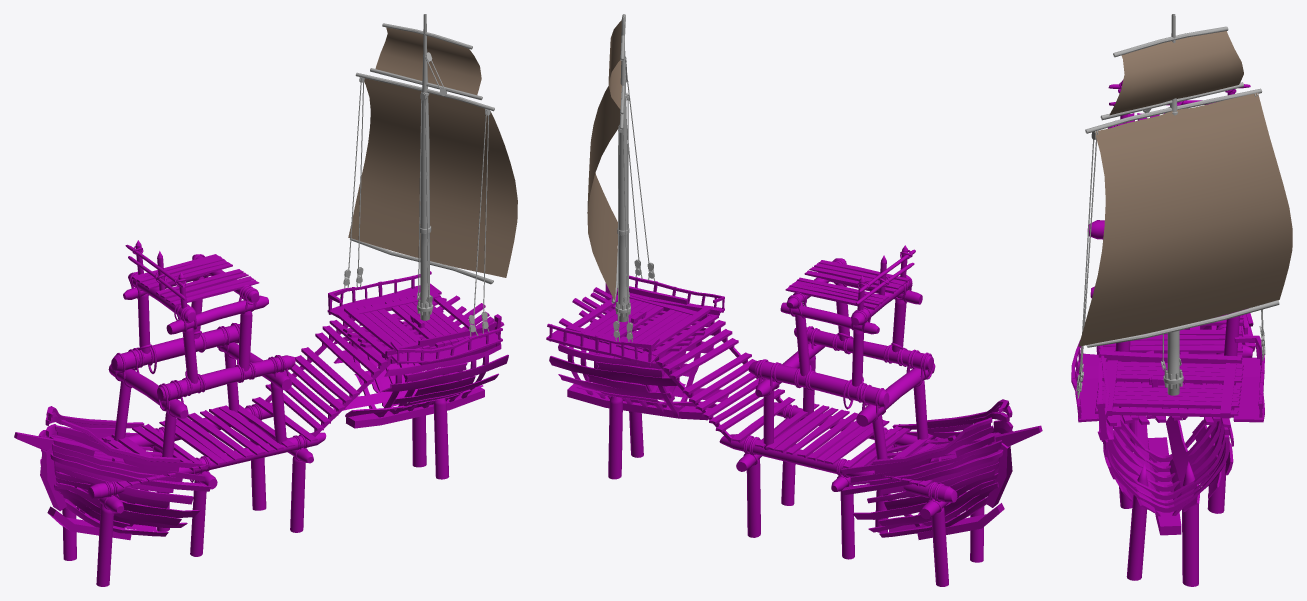
The model's file is Prefab_1.fbx.
The picture shows the model from 3 angles, left to right: view 1: azimuth 30°, elevation 25°; view 2: azimuth 150°, elevation 25°; view 3: azimuth 270°, elevation 25°; orthographic projection. The views are drawn at different scales.
Parts seen in each view (by area): view 1: Prefab_1_Tower_Wood, Prefab_1_Sail, Prefab_1_Shipwreck_Front, Prefab_1_Shipwreck_Back, Prefab_1_Mast, Prefab_1_Stairs, Prefab_1_Platform, Shipwreck_Railing; view 2: Prefab_1_Tower_Wood, Prefab_1_Shipwreck_Front, Prefab_1_Shipwreck_Back, Prefab_1_Stairs, Prefab_1_Sail, Prefab_1_Mast, Prefab_1_Platform, Shipwreck_Railing; view 3: Prefab_1_Sail, Prefab_1_Shipwreck_Back, Prefab_1_Platform, Prefab_1_Mast, Prefab_1_Tower_Wood, Shipwreck_Railing, Prefab_1_Stairs, Prefab_1_Shipwreck_Front.
Part boxes in pixels (x1,y1,x2,y2): Prefab_1_Tower_Wood: [62, 240, 326, 586]; Prefab_1_Sail: [348, 27, 517, 277]; Prefab_1_Shipwreck_Front: [14, 406, 210, 540]; Prefab_1_Shipwreck_Back: [152, 295, 508, 483]; Prefab_1_Mast: [343, 14, 494, 336]; Prefab_1_Stairs: [265, 307, 402, 436]; Prefab_1_Platform: [354, 291, 486, 353]; Shipwreck_Railing: [327, 271, 502, 364]; Prefab_1_Tower_Wood: [719, 245, 984, 586]; Prefab_1_Shipwreck_Front: [841, 399, 1042, 539]; Prefab_1_Shipwreck_Back: [549, 283, 898, 487]; Prefab_1_Stairs: [643, 306, 784, 442]; Prefab_1_Sail: [587, 20, 621, 300]; Prefab_1_Mast: [611, 14, 655, 342]; Prefab_1_Platform: [565, 293, 697, 353]; Shipwreck_Railing: [546, 275, 724, 366]; Prefab_1_Sail: [1078, 31, 1292, 346]; Prefab_1_Shipwreck_Back: [1096, 326, 1242, 586]; Prefab_1_Platform: [1095, 360, 1243, 418]; Prefab_1_Mast: [1076, 14, 1279, 398]; Prefab_1_Tower_Wood: [1087, 79, 1252, 513]; Shipwreck_Railing: [1071, 335, 1264, 422]; Prefab_1_Stairs: [1098, 350, 1242, 384]; Prefab_1_Shipwreck_Front: [1096, 310, 1255, 419].
Size of the model in its own units: 36.77 by 34.97 by 11.88.
